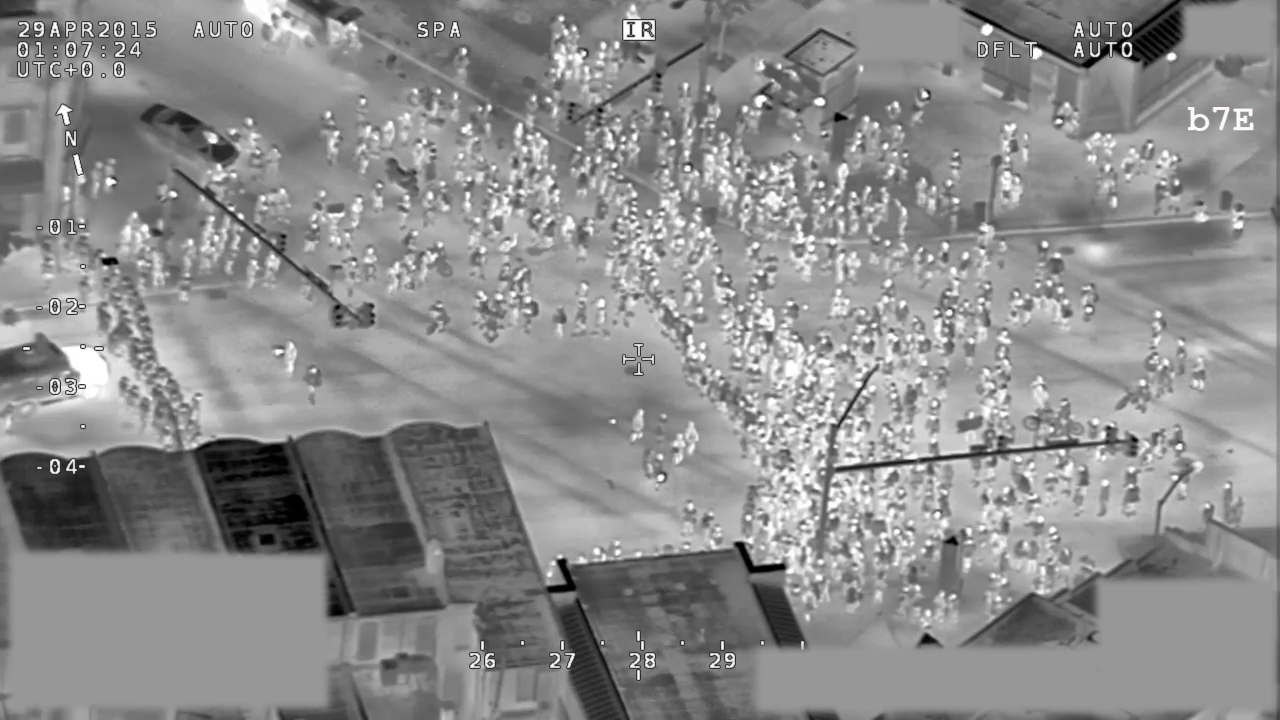vehicle: (133, 100, 243, 176)
